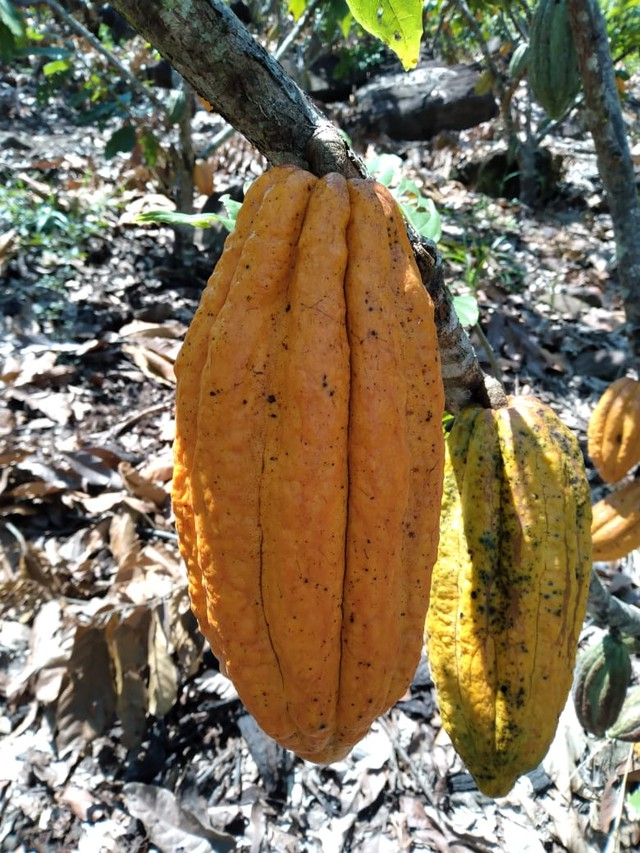Health: (167, 158, 453, 768)
